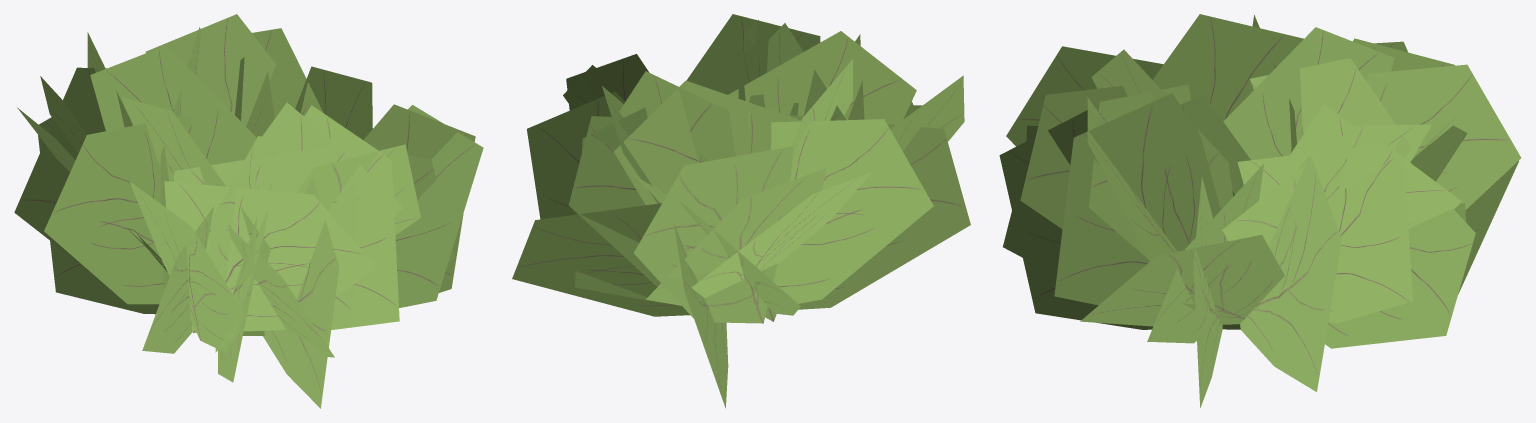
The model's file is tree_Broadleaf_Bush_M1_LOD1.fbx.
3 views of the same model, side by side, from view 1: azimuth 30°, elevation 25°; view 2: azimuth 150°, elevation 25°; view 3: azimuth 270°, elevation 25° (orthographic). The views are drawn at different scales.
Visible parts, largest first — view 1: Broadleaf_Bush_M1_LOD1; view 2: Broadleaf_Bush_M1_LOD1; view 3: Broadleaf_Bush_M1_LOD1.
Boxes of the visible parts, x1,y1,x2,y2 form: Broadleaf_Bush_M1_LOD1: (14, 14, 483, 408); Broadleaf_Bush_M1_LOD1: (512, 14, 970, 408); Broadleaf_Bush_M1_LOD1: (999, 14, 1521, 407).
Bounding box in the file's own units: 305 × 206 × 330.
